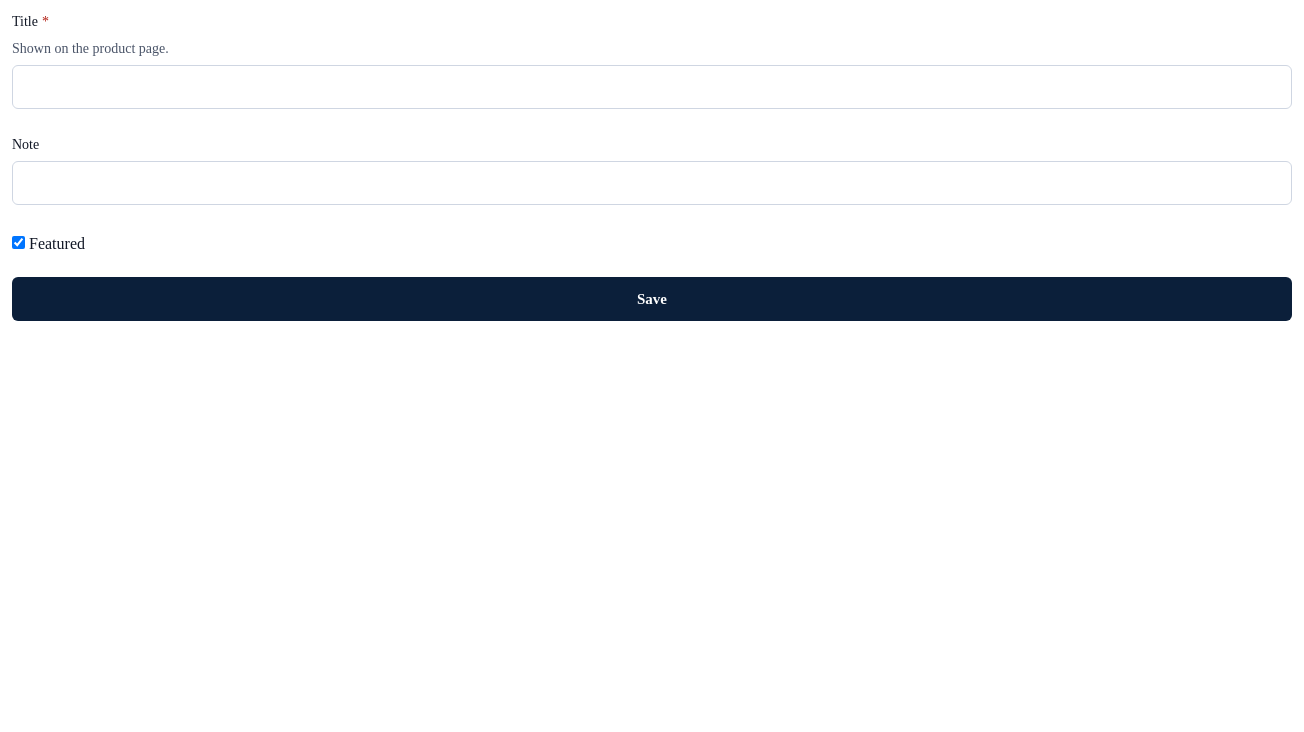
Test case: validation errors › clears the error once the next attempt succeeds
This screenshot has width=1304, height=732.
Click the button "Save" at coordinates (652, 299), box [12, 277, 1292, 321]
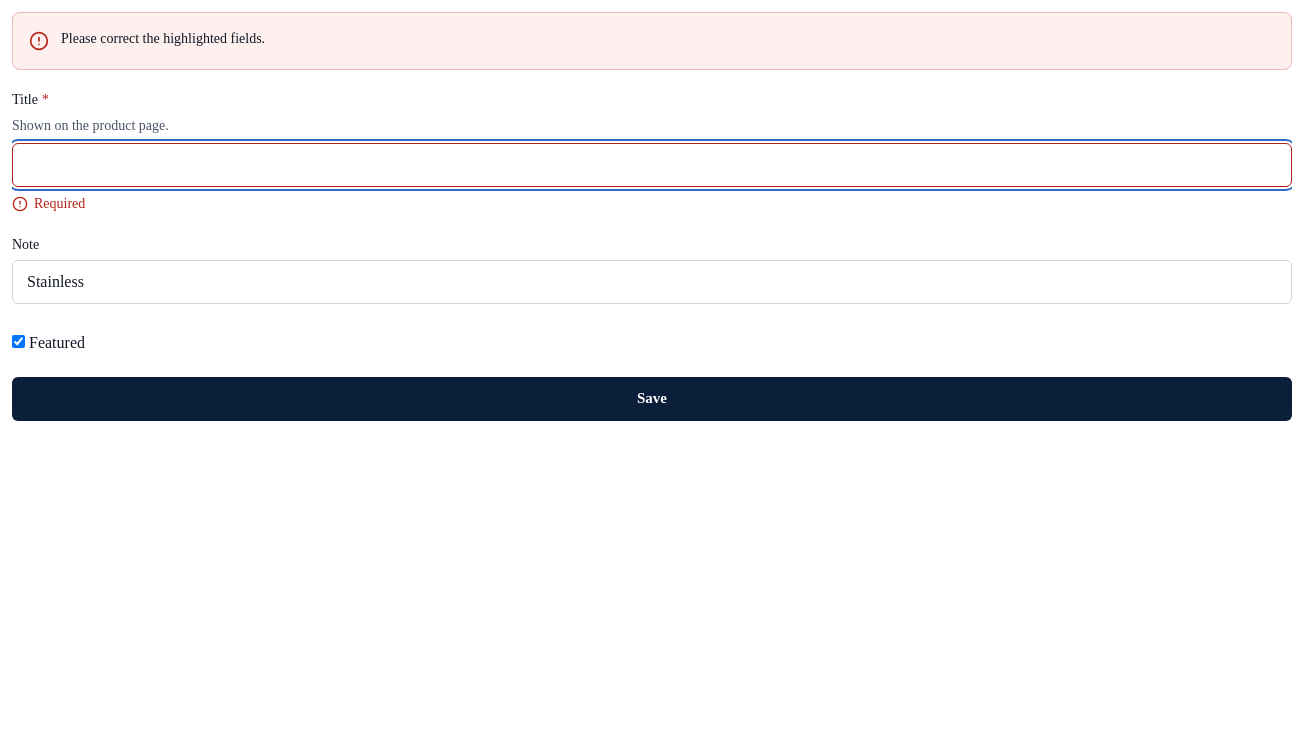
Now the message "Please correct the highlighted fields." is shown, box [12, 12, 1292, 70]
Type "Kettle" into the field labelled "Title*" at coordinates (652, 165), box [12, 143, 1292, 187]
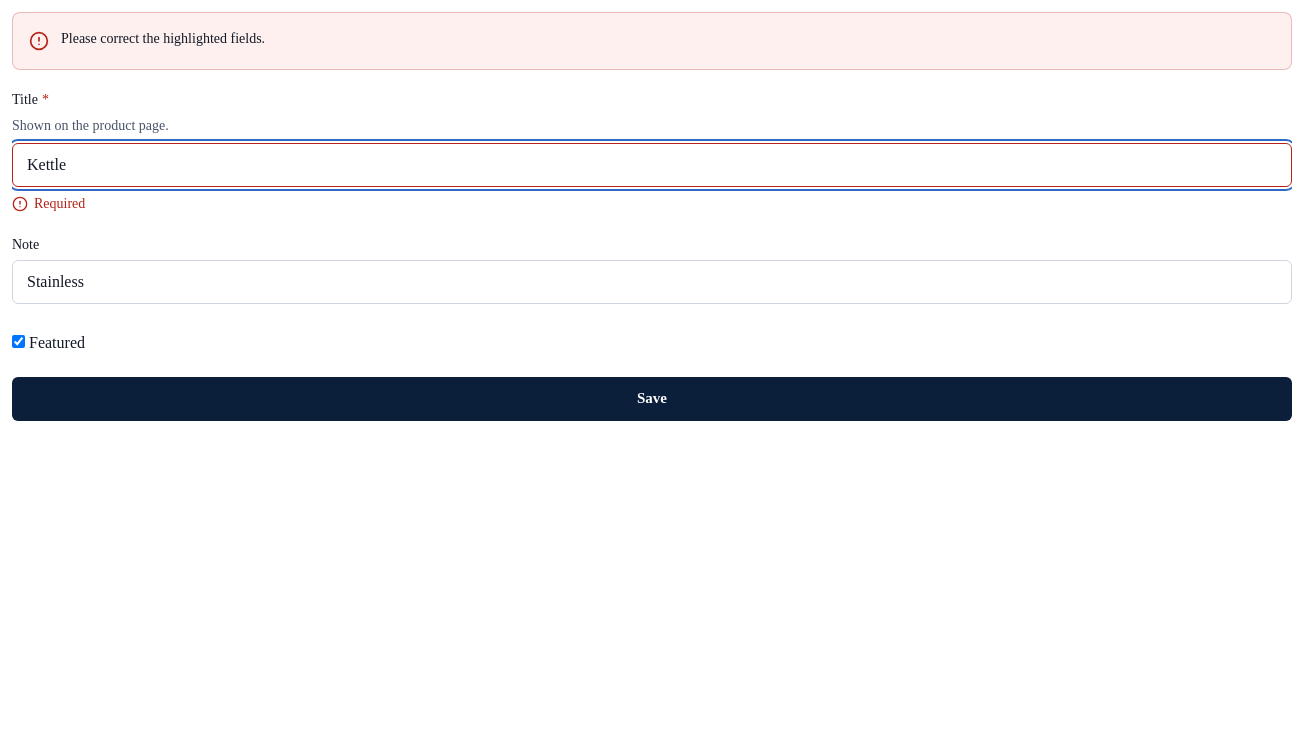
Click the button "Save" at coordinates (652, 398), box [12, 376, 1292, 420]
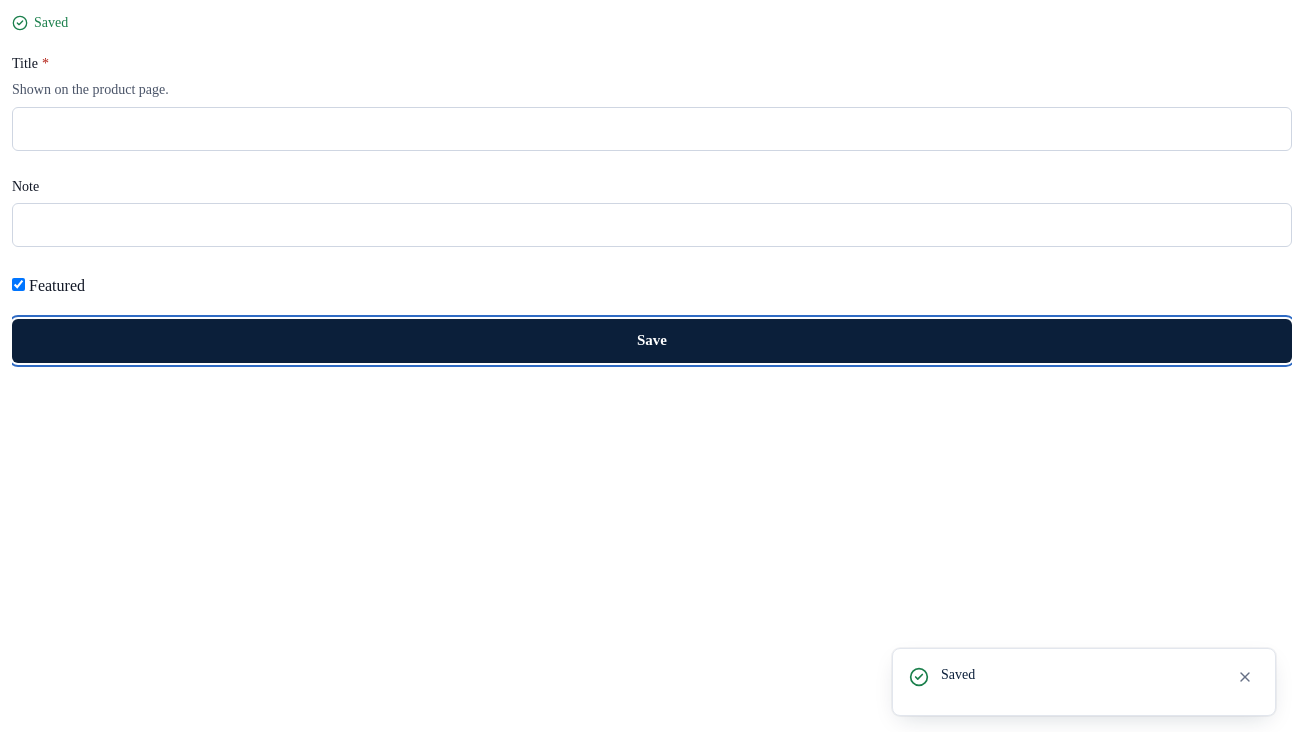
Now the message "Please correct the highlighted fields." is gone
